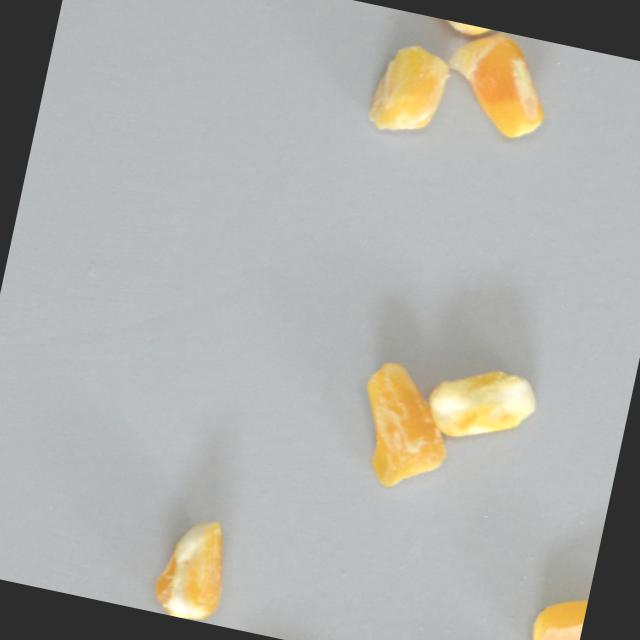dañado: (433, 22, 563, 149)
pelicula: (333, 347, 464, 500), (421, 352, 546, 457), (144, 504, 238, 625), (359, 34, 459, 147), (524, 583, 589, 640), (416, 14, 522, 47)
